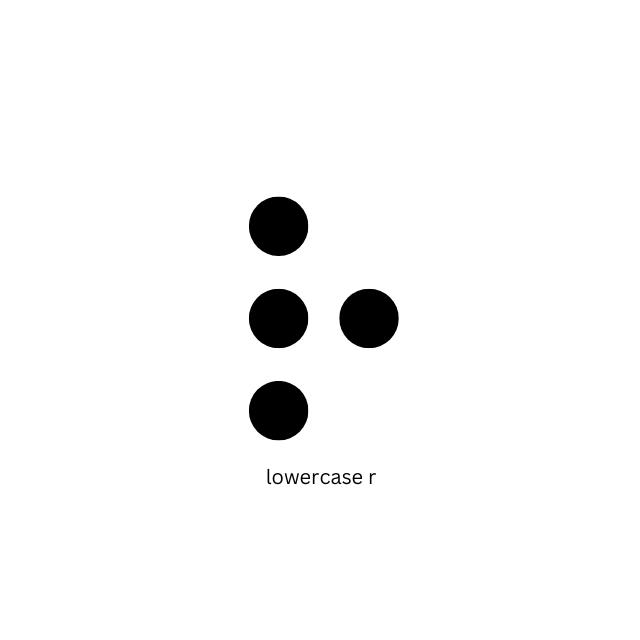letter_r: (247, 196, 400, 441)
